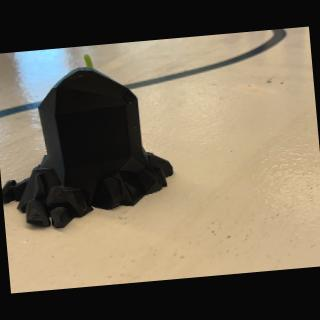teletubby: (84, 54, 93, 67)
